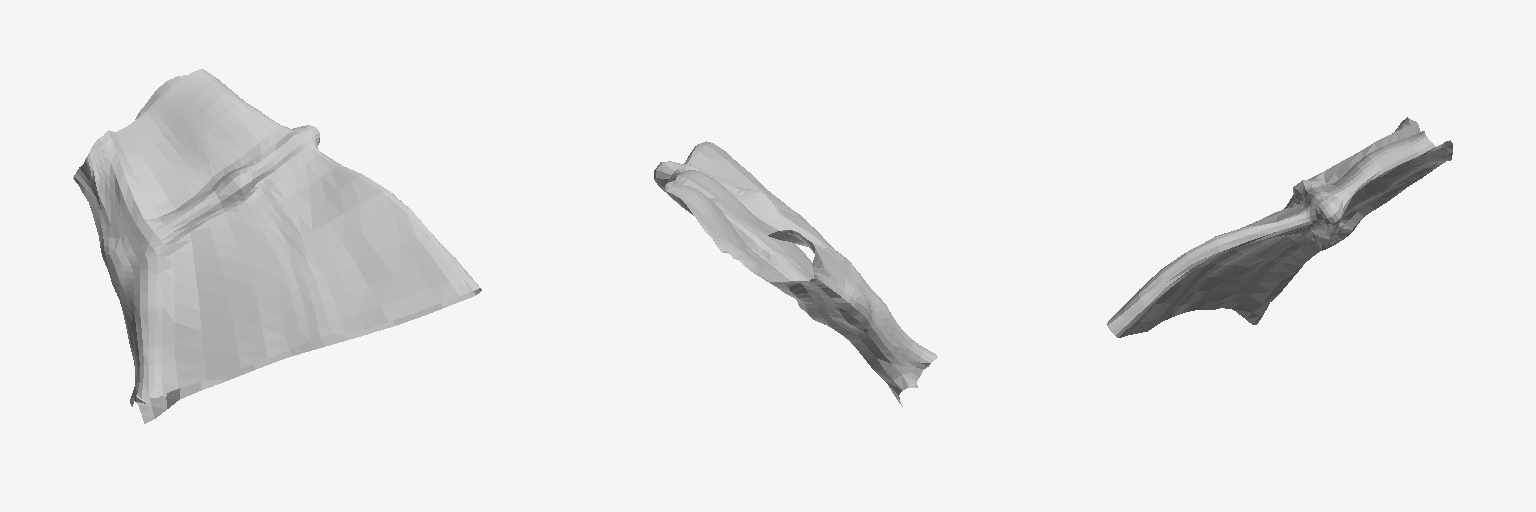
The model's file is AlaA1.obj.
The picture shows the model from 3 angles: view 1: azimuth 30°, elevation 25°; view 2: azimuth 150°, elevation 25°; view 3: azimuth 270°, elevation 25°; orthographic projection.
Parts seen in each view (by area): view 1: 17174_Tiamat_new.002; view 2: 17174_Tiamat_new.002; view 3: 17174_Tiamat_new.002.
Part boxes in pixels (x1,y1,x2,y2): 17174_Tiamat_new.002: (73, 69, 481, 423); 17174_Tiamat_new.002: (654, 141, 937, 406); 17174_Tiamat_new.002: (1107, 117, 1452, 337).
Size of the model in its own units: 4.84 by 4.2 by 5.1.